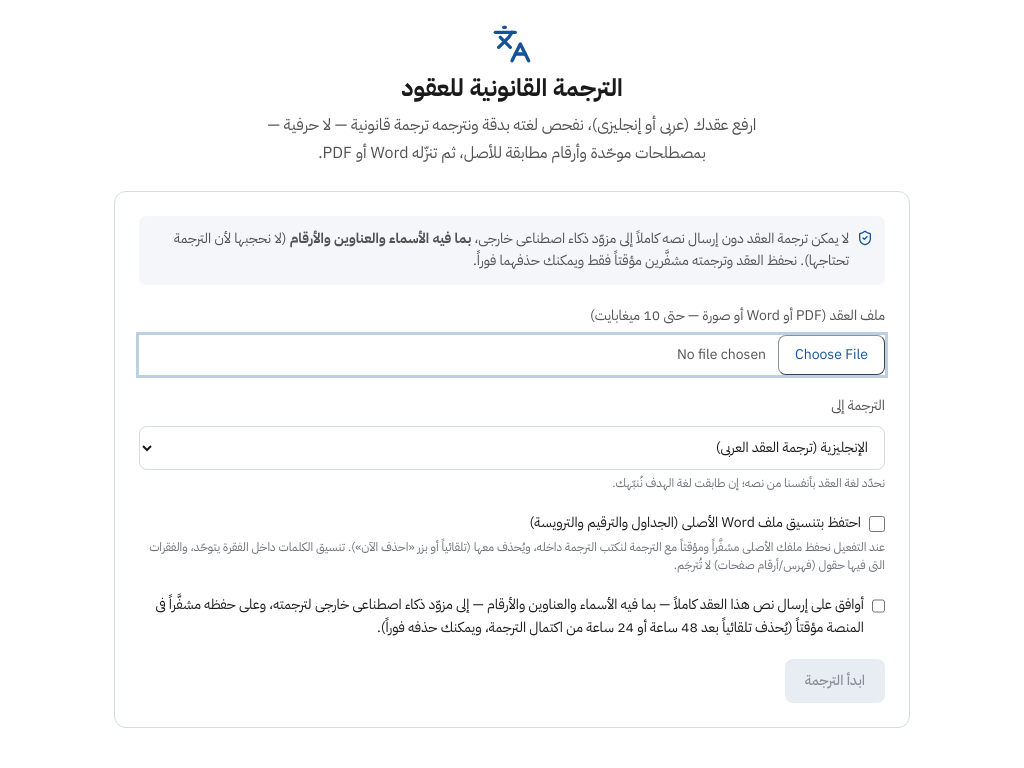
Test case: TranslationScreen › تدفق كامل: إنشاء ← خطوات ← اكتمال مع بنود موسومة وملاحظات وتنزيل
Earlier steps of the test are not shown.
Later steps or results of the test are not shown.
Click the checkbox labelled "أوافق على إرسال". click: (878, 606)
box: left=872, top=598, right=885, bottom=614
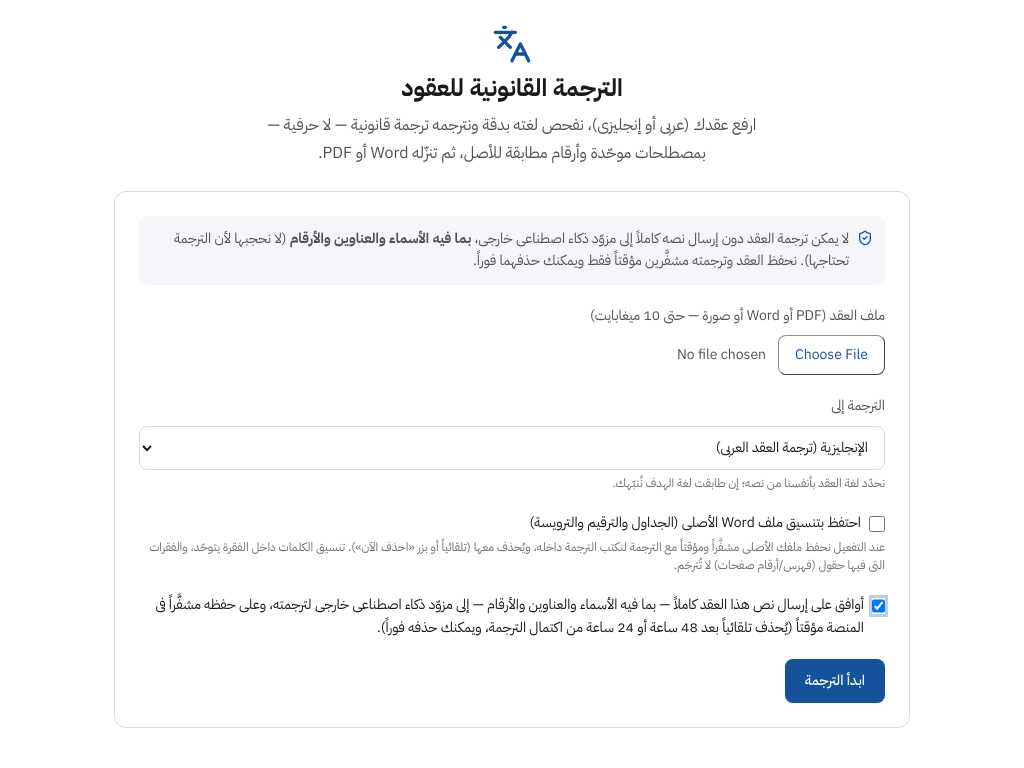
Click the button "ابدأ الترجمة". click: (835, 681)
box: left=785, top=659, right=885, bottom=703
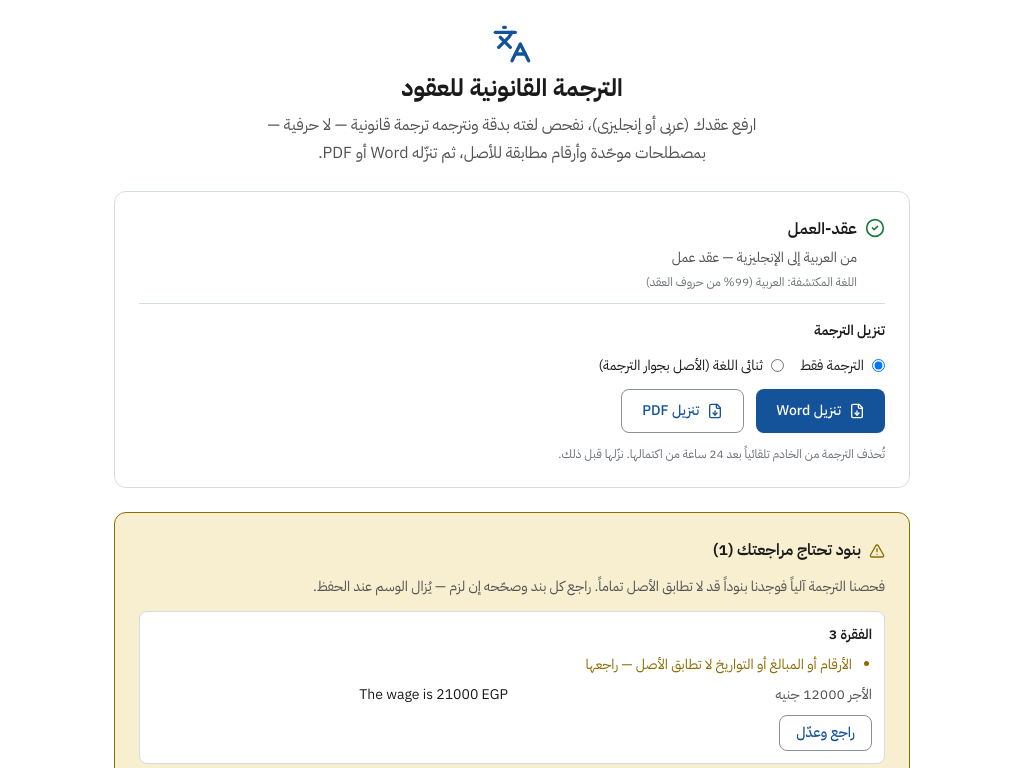
Now the list item "الأرقام أو المبالغ أو التواريخ لا تطابق الأصل — راجعها" is shown, box left=585, top=654, right=852, bottom=675
